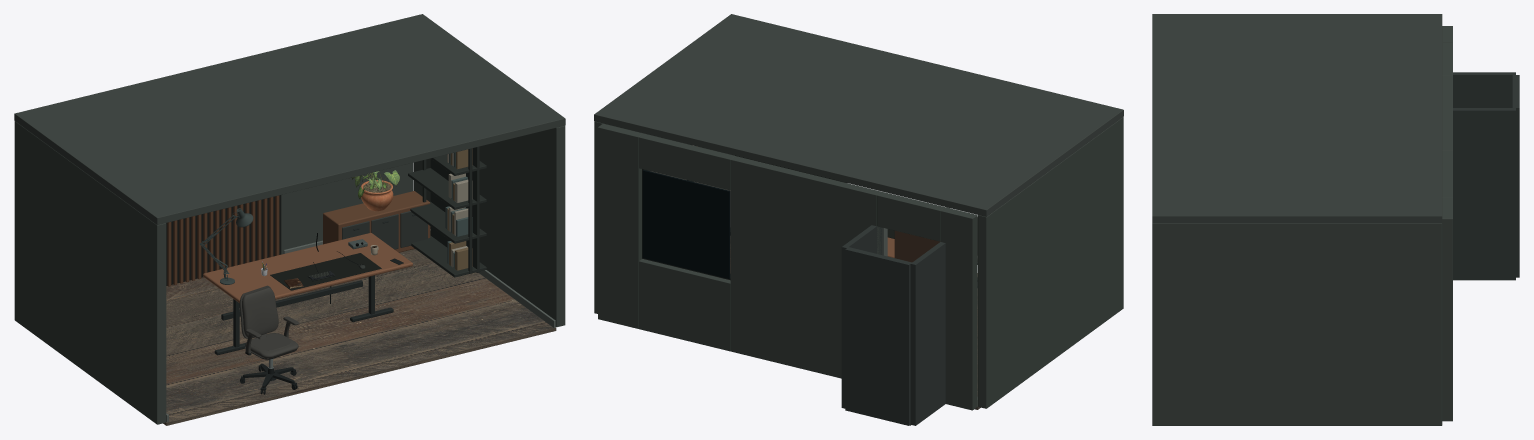
File: home-office.glb
The picture shows the model from 3 angles, left to right: view 1: azimuth 30°, elevation 25°; view 2: azimuth 150°, elevation 25°; view 3: azimuth 270°, elevation 25°; orthographic projection. The views are drawn at different scales.
Parts seen in each view (by area): view 1: Home office — Ceiling mineral paint, Home office — Warm mineral paint, Home office — Poly Haven dark wooden planks, Home office — Smoked walnut slats, Home office — Bookcase charcoal, Home office — Oiled black walnut, Home task chair, Home office — Acoustic felt, Home office — Credenza walnut, Home office — Credenza lacquer, Home office — Powder coated steel, Home office — Wool desk mat (+7 smaller); view 2: Home office — Warm mineral paint, Home office — Ceiling mineral paint, Home office — Hall wall, Home office — Night glass, Home office — Smoked oak door; view 3: Home office — Warm mineral paint, Home office — Ceiling mineral paint, Home office — Hall wall.
Boxes of the visible parts, x1,y1,x2,y2 form: Home office — Ceiling mineral paint: [14, 14, 565, 224]; Home office — Warm mineral paint: [14, 121, 565, 424]; Home office — Poly Haven dark wooden planks: [163, 249, 556, 425]; Home office — Smoked walnut slats: [167, 195, 279, 286]; Home office — Bookcase charcoal: [408, 146, 486, 277]; Home office — Oiled black walnut: [203, 233, 412, 302]; Home task chair: [239, 285, 299, 394]; Home office — Acoustic felt: [166, 195, 281, 285]; Home office — Credenza walnut: [323, 191, 430, 252]; Home office — Credenza lacquer: [342, 211, 427, 249]; Home office — Powder coated steel: [214, 214, 415, 355]; Home office — Wool desk mat: [270, 253, 381, 290]; Home office — Warm mineral paint: [594, 117, 1123, 410]; Home office — Ceiling mineral paint: [594, 14, 1123, 216]; Home office — Hall wall: [841, 225, 945, 425]; Home office — Night glass: [642, 170, 730, 278]; Home office — Smoked oak door: [894, 230, 940, 262]; Home office — Warm mineral paint: [1152, 26, 1452, 425]; Home office — Ceiling mineral paint: [1152, 14, 1442, 223]; Home office — Hall wall: [1453, 72, 1519, 280].
Bounding box in the file's own units: 5.31 × 2.61 × 4.08.
Materials: 42 (5 with a texture image).
